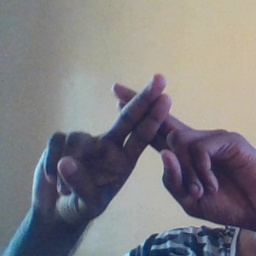F: (71, 58, 219, 193)
